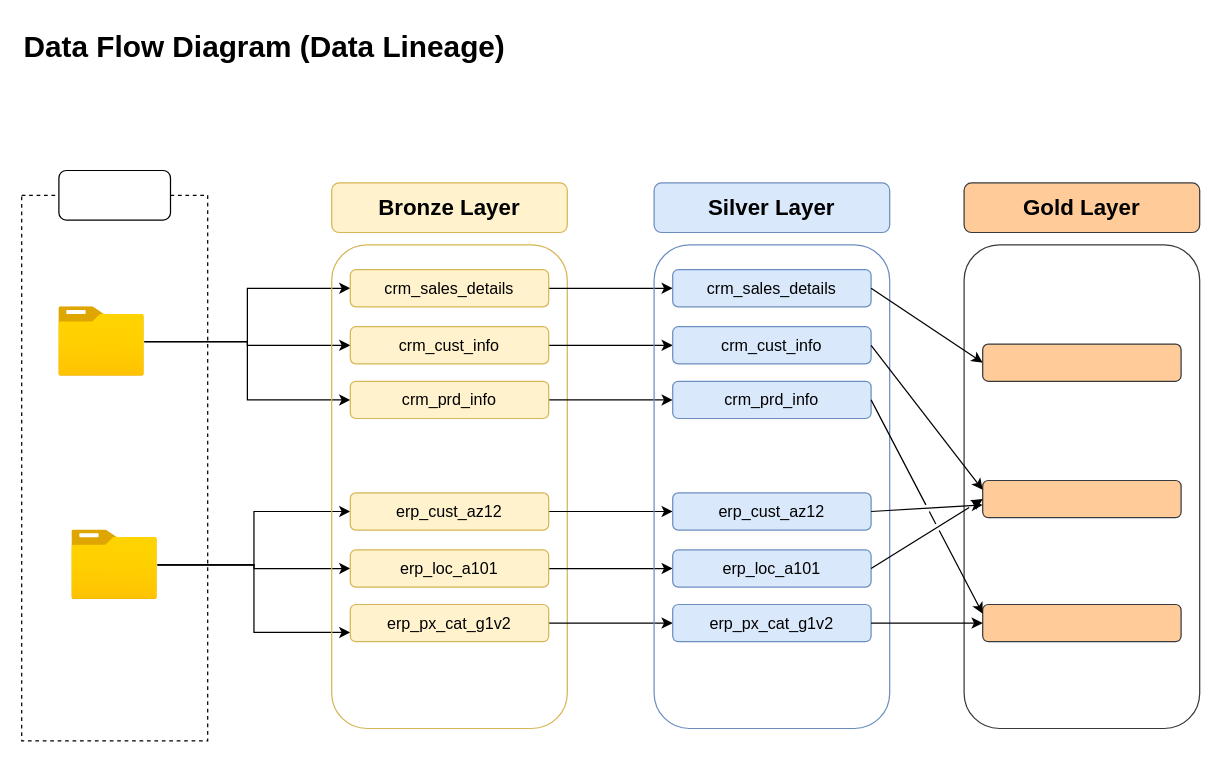
This 1221x763 diagram has some shape labels left out. Here are the shapes that lost their labels. From the top down, the centre of each, then its label:
At point 114,194: "Source".
At point 101,341: "CRM".
At point 1081,362: "fact_sales".
At point 1081,498: "dim_customers".
At point 114,564: "ERP".
At point 1081,622: "dim_products".
